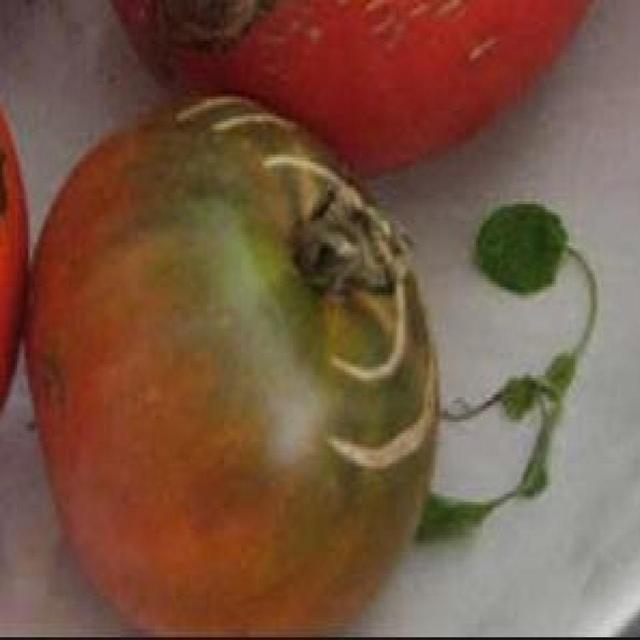Cracking Fruit: (194, 28, 237, 268)
